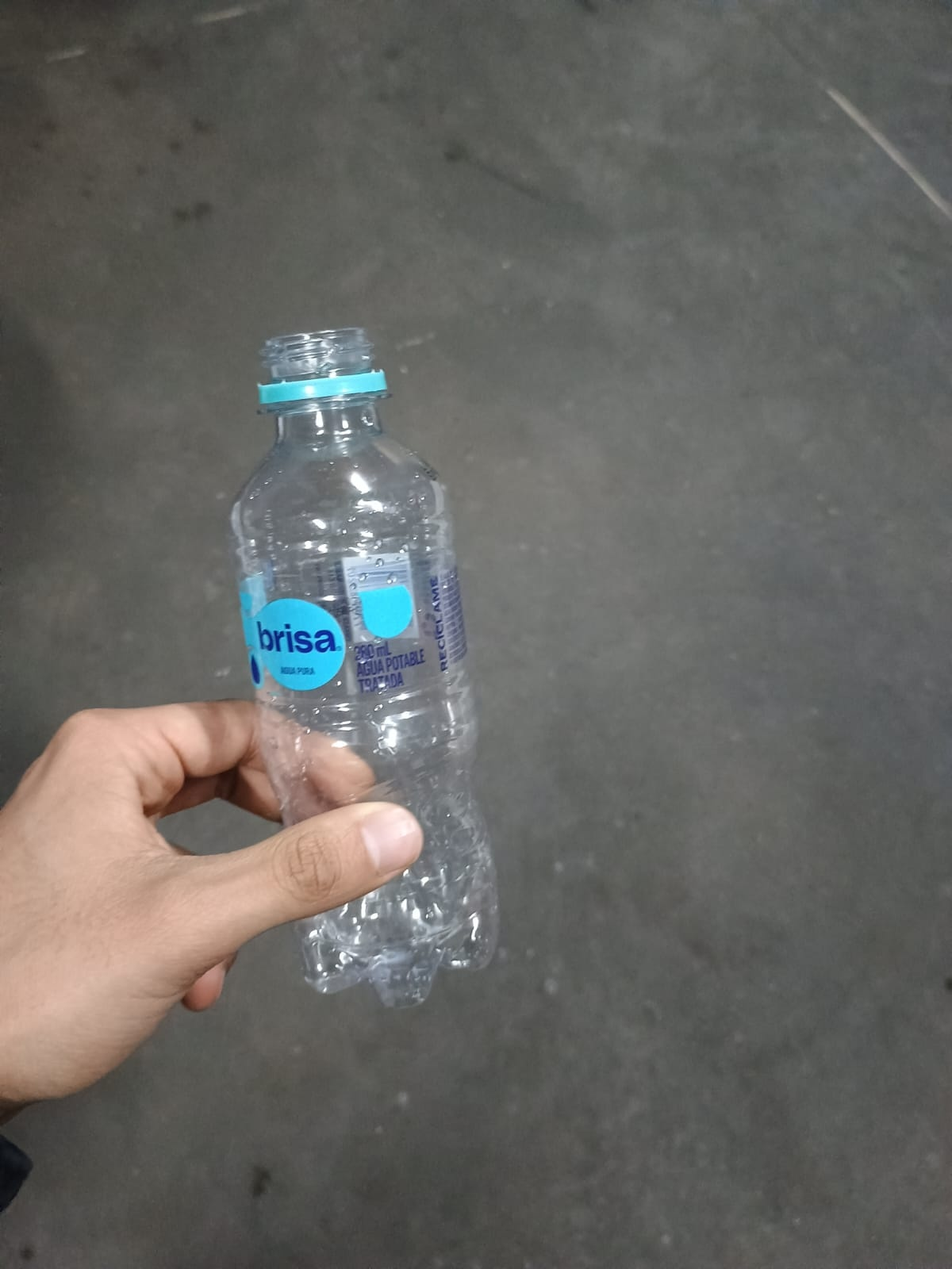Plastico: (228, 322, 503, 1011)
